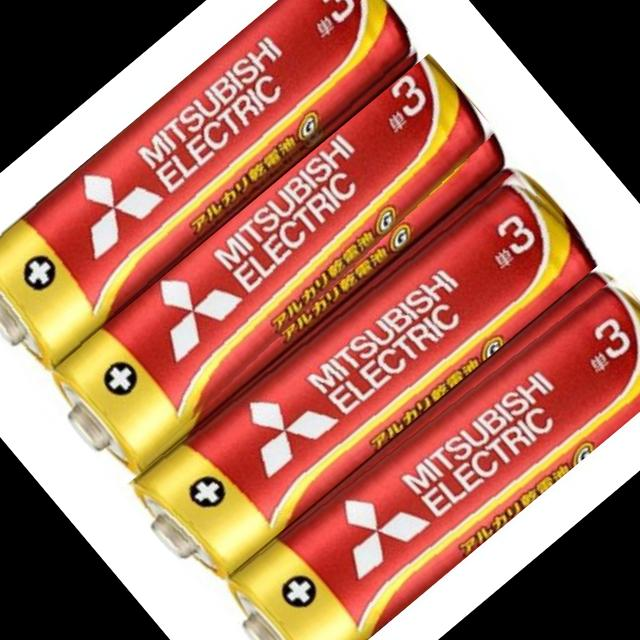Hazard: (29, 52, 515, 490), (117, 155, 602, 592), (205, 259, 640, 640), (0, 0, 428, 387)
